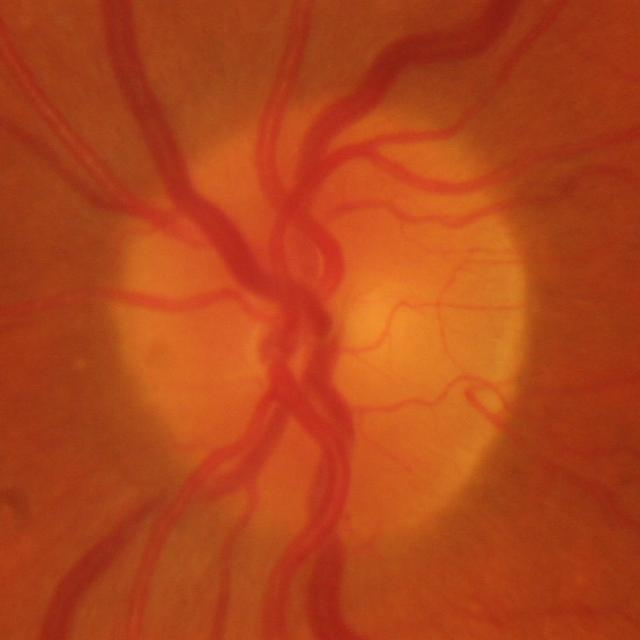OC: (348, 281, 442, 374)
OD: (114, 112, 528, 543)
